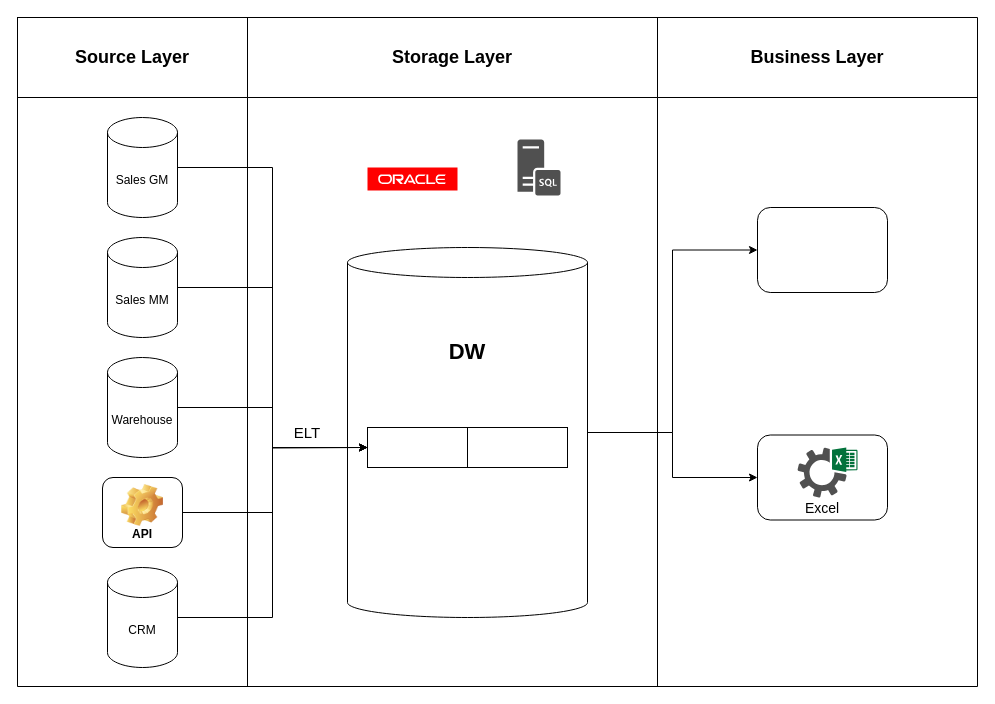
Image size: 995x704. Some labels were removed from this diagram. The shapes that lost their labels are listed below. From the top down, each one's centre as x and y in pixels, then its label:
At (x=822, y=249): "QlikView BI".
At (x=417, y=447): "Staging".
At (x=517, y=447): "BL".
